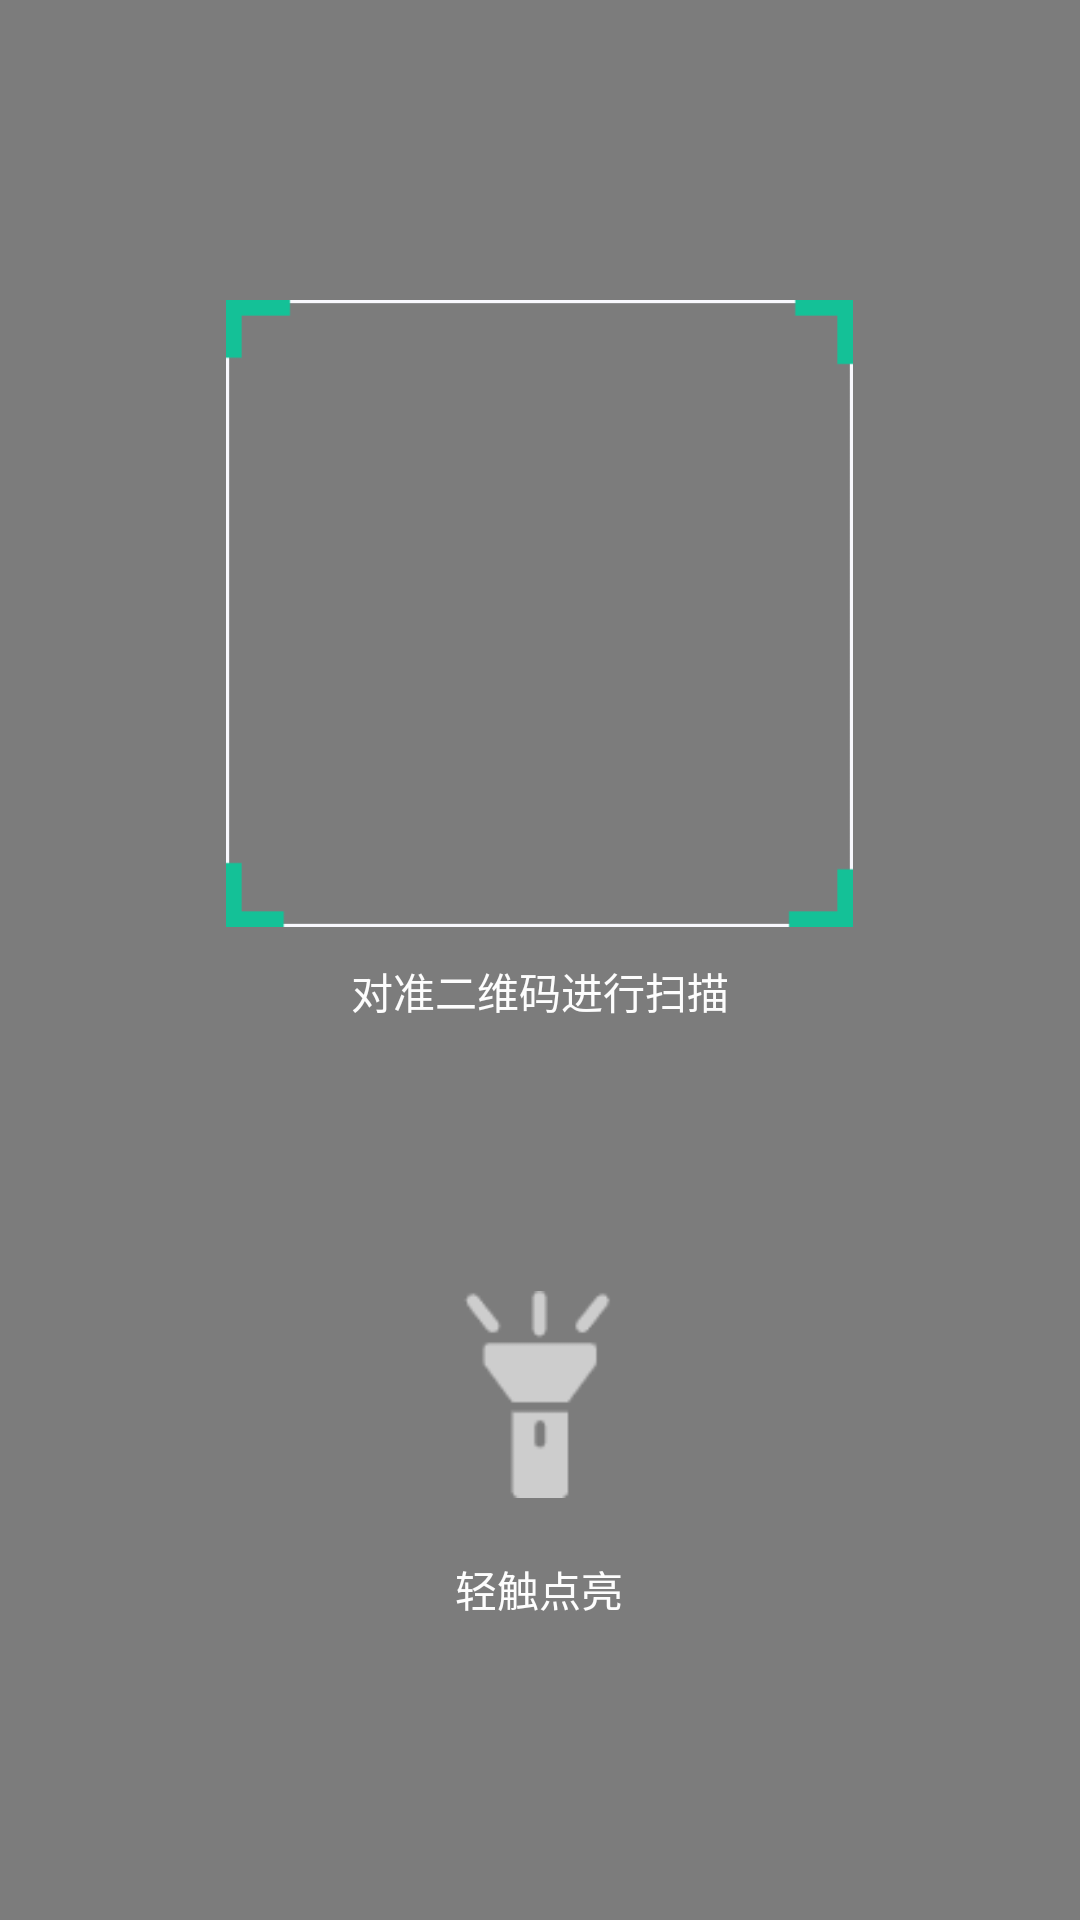

Icon click points for this 1080px x 1920px phone screenshot, format (x,y):
flashlight off: (538,1394)
